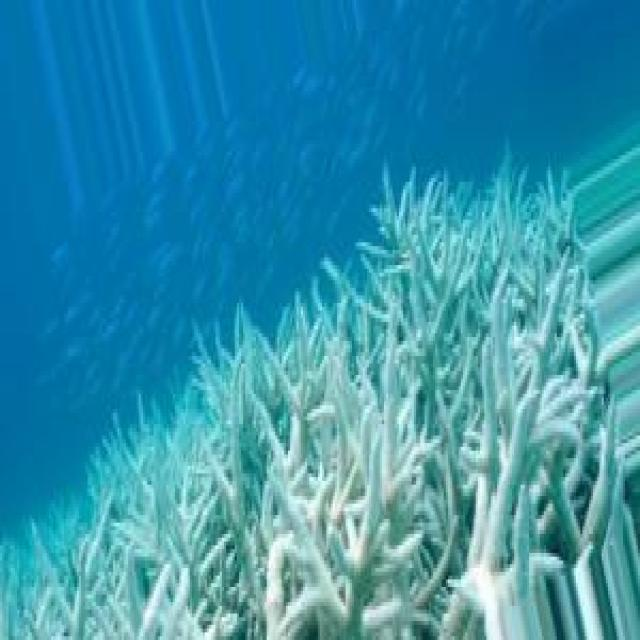bleached coral: (399, 413, 465, 606), (491, 341, 546, 560), (284, 458, 365, 560), (113, 557, 181, 640), (194, 500, 247, 591), (538, 470, 580, 568), (435, 292, 474, 356), (356, 375, 382, 424)
healthy coral: (284, 246, 390, 345), (497, 182, 574, 258), (380, 178, 452, 258), (239, 311, 303, 367), (90, 489, 134, 553), (130, 390, 179, 447), (28, 511, 75, 568)
